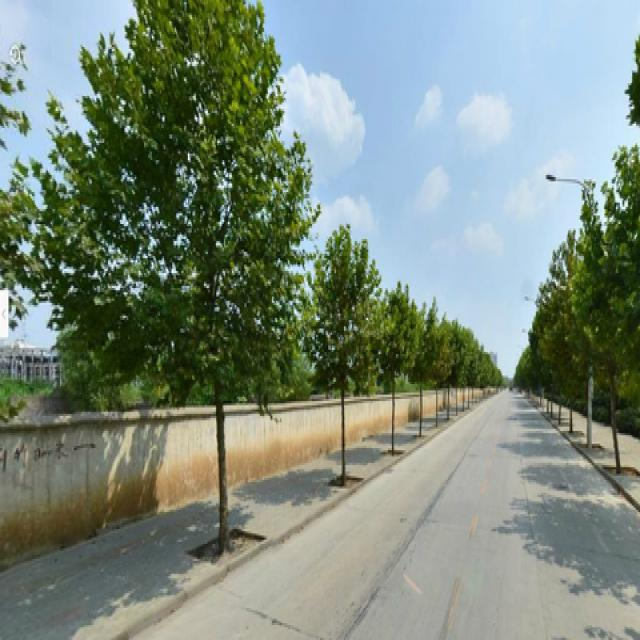meta: (116, 28, 280, 552), (315, 239, 369, 476), (579, 256, 629, 450), (383, 286, 413, 461)
